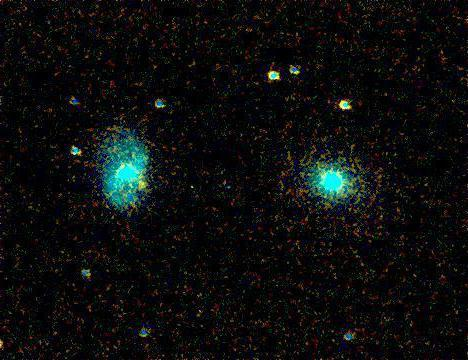star: (128, 171, 158, 201)
